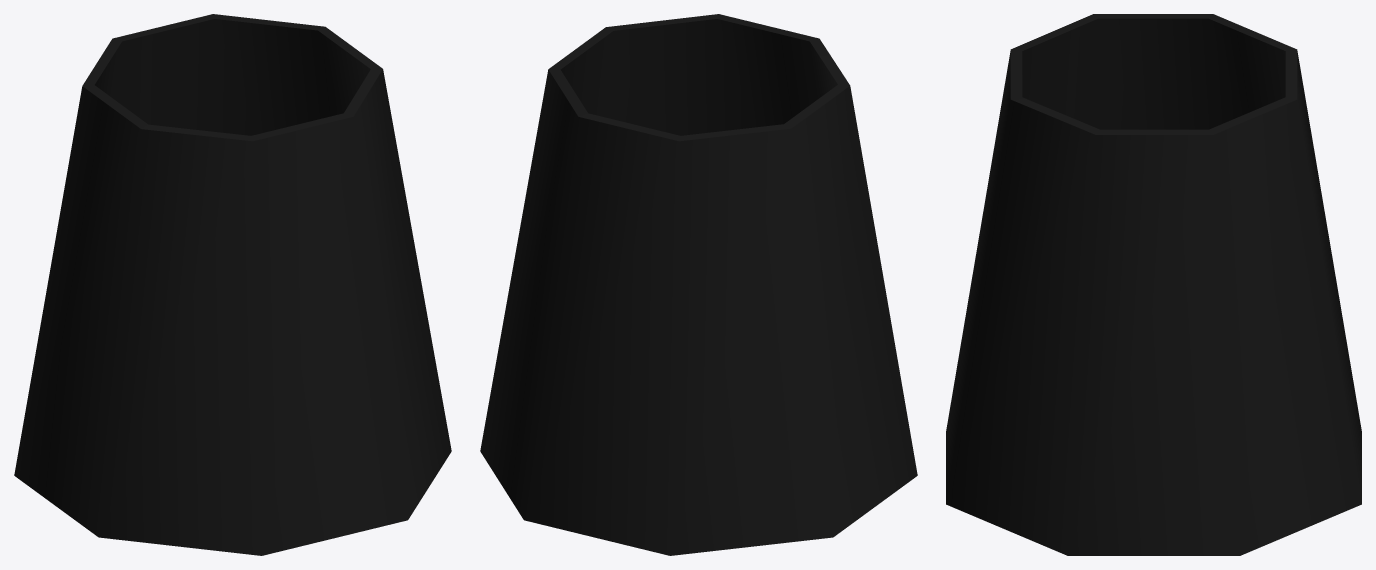
Rendered from Itr_Lamp_Cap1_02.FBX.
3 renders of one model, left to right at view 1: azimuth 30°, elevation 25°; view 2: azimuth 150°, elevation 25°; view 3: azimuth 270°, elevation 25°, orthographic. The views are drawn at different scales.
Parts seen in each view (by area): view 1: Itr_Lamp_Cap1_02; view 2: Itr_Lamp_Cap1_02; view 3: Itr_Lamp_Cap1_02.
Boxes of the visible parts, box(x1,y1,x2,y2) form: Itr_Lamp_Cap1_02: box(14, 14, 451, 555); Itr_Lamp_Cap1_02: box(480, 14, 917, 555); Itr_Lamp_Cap1_02: box(946, 14, 1361, 555).
Bounding box in the file's own units: 8.48 × 8.86 × 8.48.
